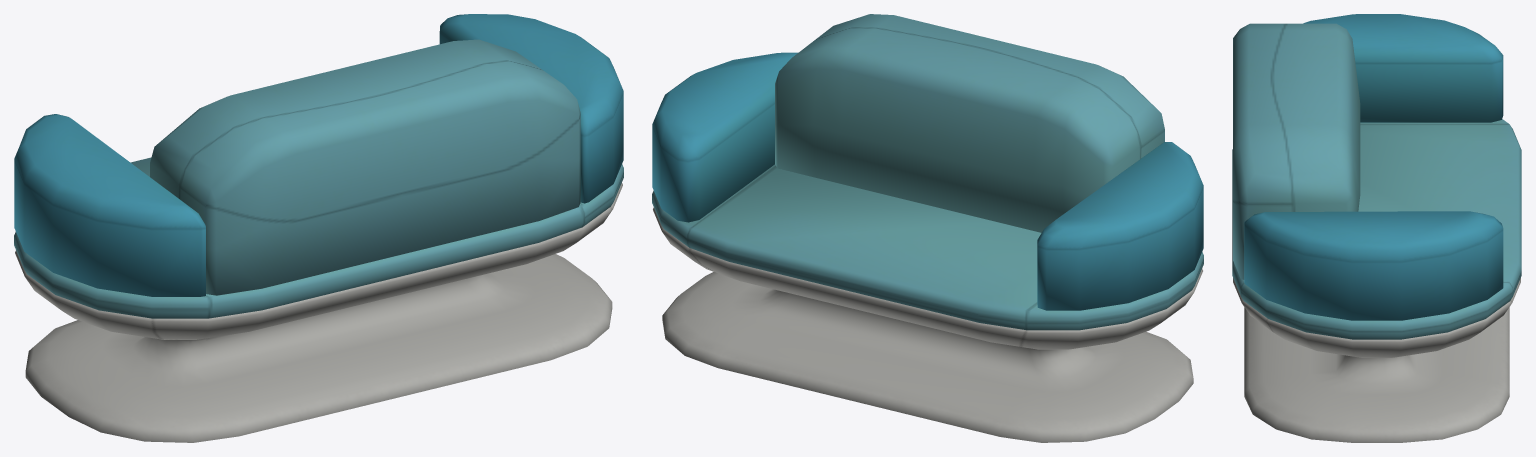
The model's file is Couch.fbx.
3 renders of one model, left to right at view 1: azimuth 30°, elevation 25°; view 2: azimuth 150°, elevation 25°; view 3: azimuth 270°, elevation 25°, orthographic. The views are drawn at different scales.
Visible parts, largest first — view 1: Couch; view 2: Couch; view 3: Couch.
Part boxes in pixels (x1=…): Couch: x1=14, y1=14, x2=623, y2=442; Couch: x1=652, y1=14, x2=1203, y2=442; Couch: x1=1232, y1=14, x2=1521, y2=442.
Size of the model in its own units: 160 by 79.34 by 82.11.
